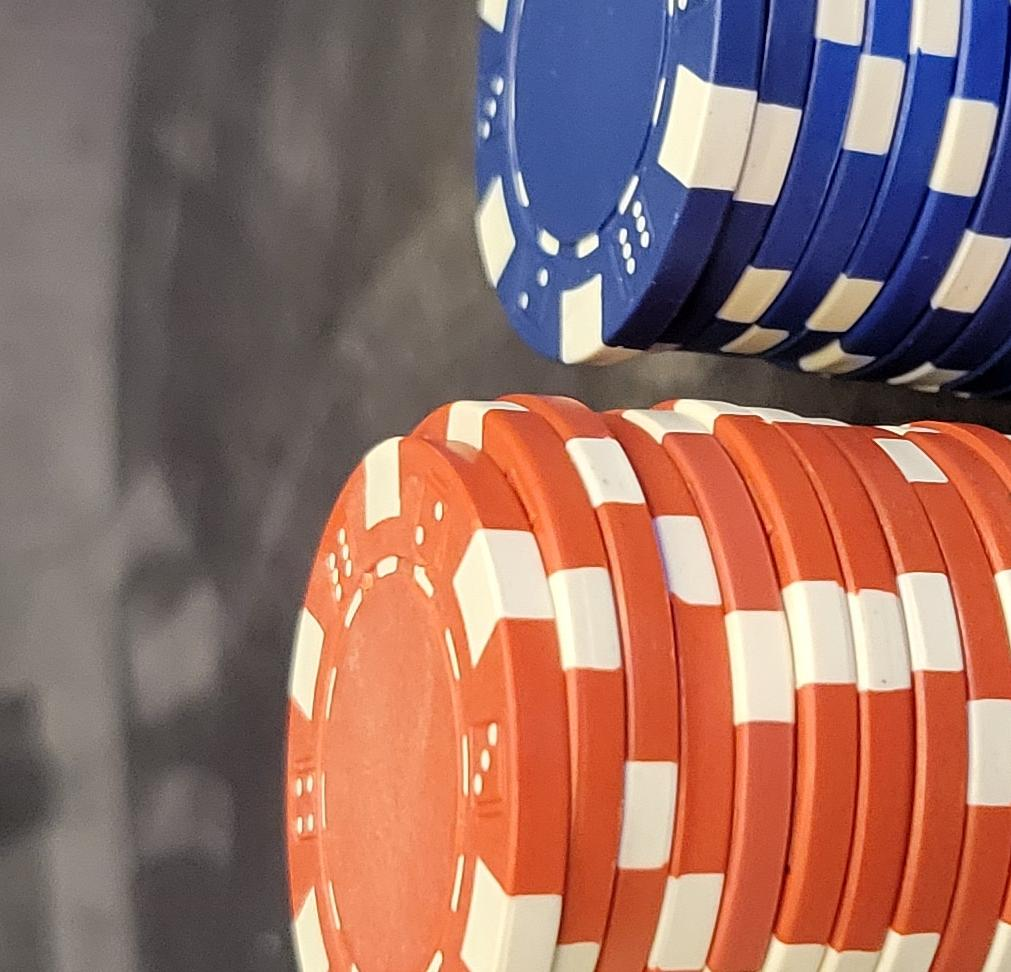Chip: (1, 324, 462, 972)
